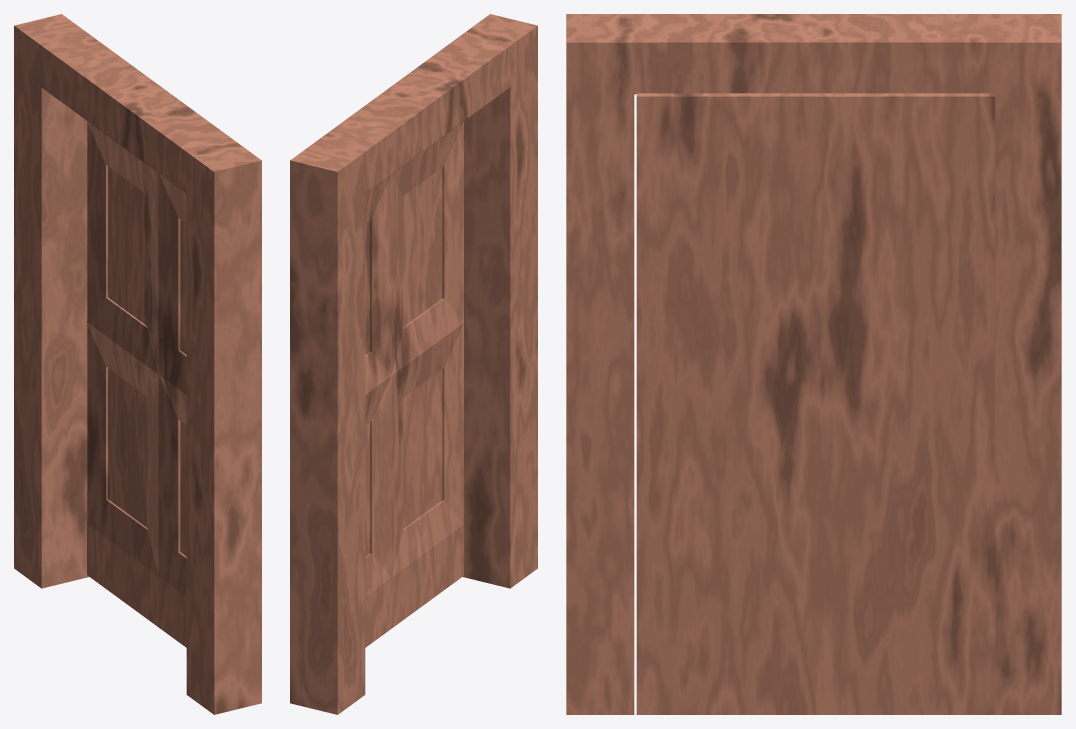
File: Door.fbx
3 renders of one model, left to right at view 1: azimuth 30°, elevation 25°; view 2: azimuth 150°, elevation 25°; view 3: azimuth 270°, elevation 25°, orthographic. The views are drawn at different scales.
Parts seen in each view (by area): view 1: Cube.001, Cube; view 2: Cube.001, Cube; view 3: Cube, Cube.001.
Part boxes in pixels (x1=…): Cube.001: x1=14, y1=14, x2=261, y2=714; Cube: x1=87, y1=121, x2=186, y2=647; Cube.001: x1=290, y1=14, x2=537, y2=714; Cube: x1=365, y1=121, x2=463, y2=647; Cube: x1=636, y1=93, x2=995, y2=714; Cube.001: x1=566, y1=14, x2=1061, y2=714.
Size of the model in its own units: 202 by 1990 by 1329.
2 materials, 2 textured.
